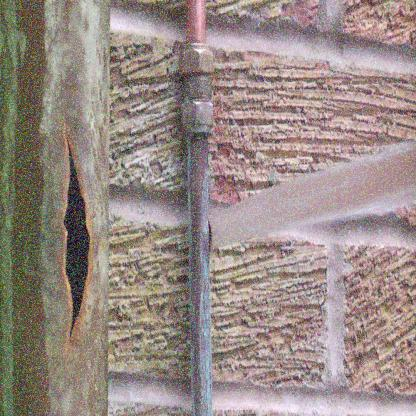burst: (52, 137, 101, 334)
